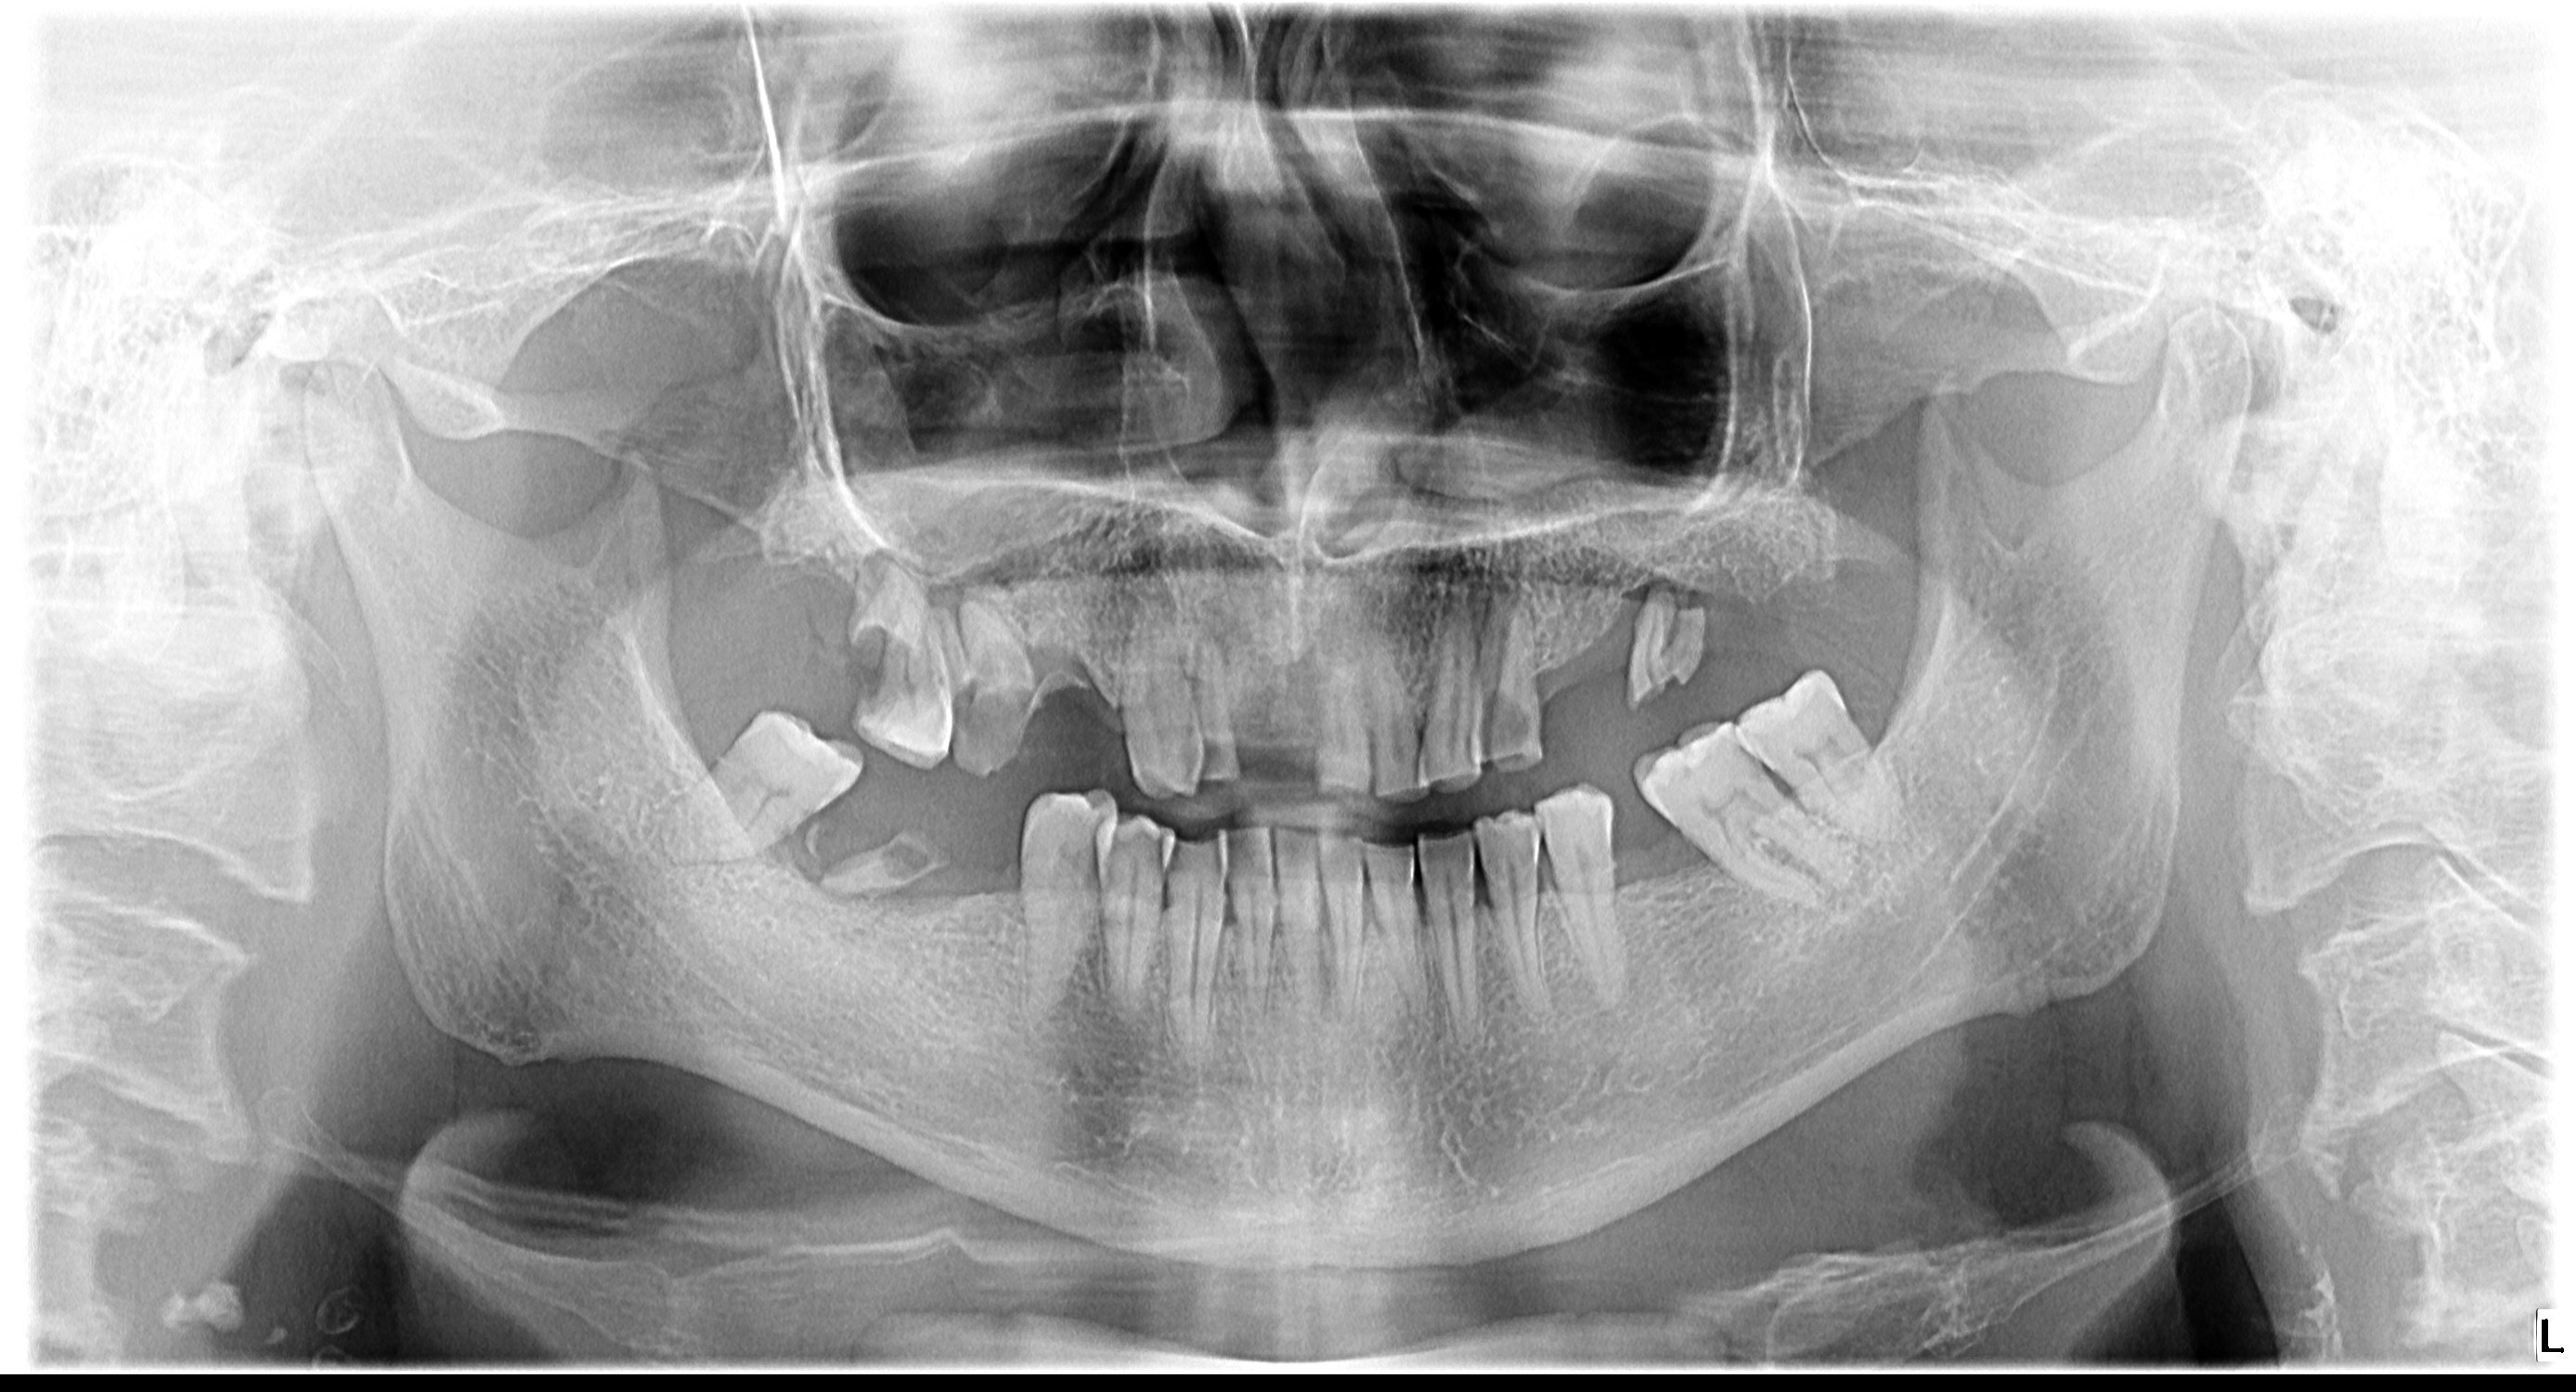CAR: (841, 339, 2576, 1126), (699, 298, 2237, 1063), (575, 336, 1809, 1116), (418, 262, 1456, 1051), (404, 394, 1329, 1279), (367, 261, 1298, 977)
ROT: (800, 221, 2533, 917), (772, 214, 2463, 926), (339, 365, 1293, 1274), (375, 375, 1207, 1243)
